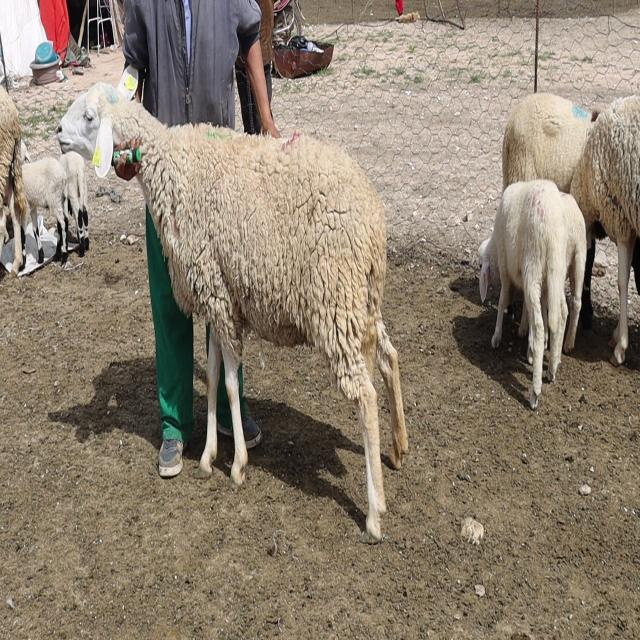Score_2: (57, 66, 408, 543)
